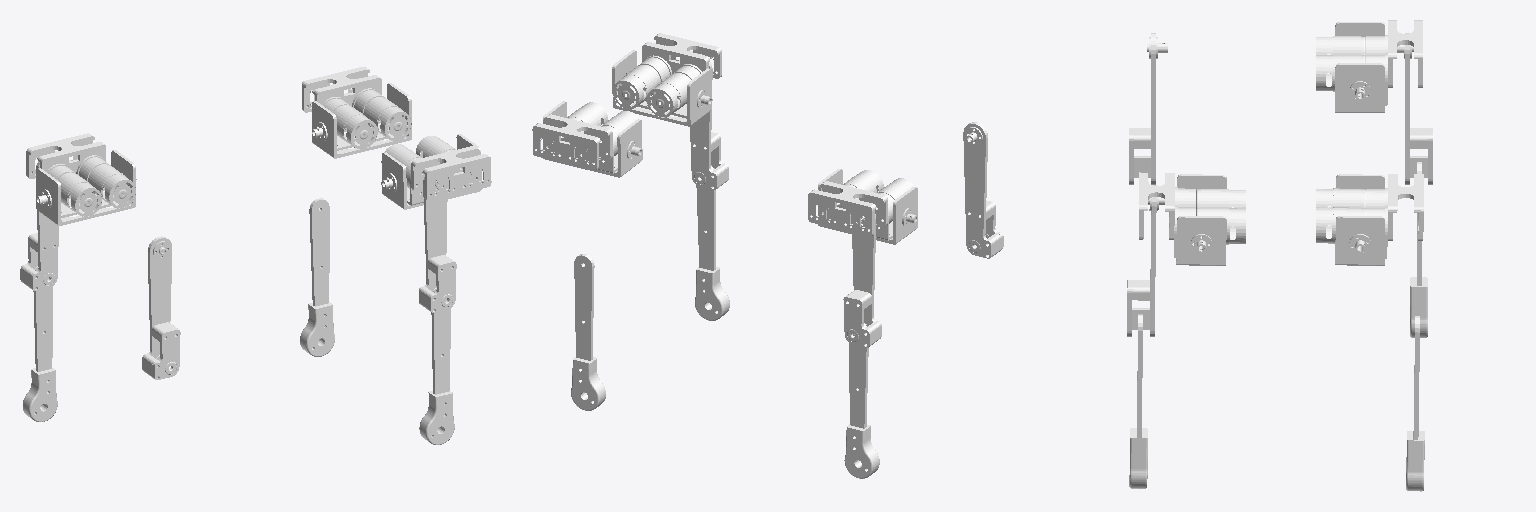
URDF robot description (spot):


<robot name="spot">
  <link name="chassis">
  <contact>
      <lateral_friction value="1"/>
  </contact>
    <inertial>
      <origin rpy="0 0 0" xyz="0 0.03 0.043794"/>
       <mass value="13.715"/>
       <inertia ixx="0" ixy="0" ixz="0" iyy="0" iyz="0" izz="0"/>
    </inertial>
    <visual>
      <origin rpy="0 0 0" xyz="0 0 0.043794"/>
      <geometry>

                <mesh filename="meshes/base_link.STL" scale="1 1 1"/>
      </geometry>
       <material name="white">
        <color rgba="1 1 1 1"/>
      </material>
    </visual>
    <collision>
      <origin rpy="0 0 0" xyz="0 0 0"/>
      <geometry>

                <mesh filename="meshes/base_link.STL" scale="1 1 1"/>
      </geometry>
    </collision>
  </link>

     <link name="FR_hip_motor">
  <contact>
      <lateral_friction value="1"/>
  </contact>
    <inertial>
       <origin rpy="0 0 0" xyz="0.02 0 0"/>
       <mass value="1.095"/>
       <inertia ixx="0" ixy="0" ixz="0" iyy="0" iyz="0" izz="0"/>
    </inertial>

      <visual>
      <origin rpy="0 0 0" xyz="0 0 0"/>
      <geometry>
                <mesh filename="meshes/rf_hip_link.STL" scale="1 1 1"/>
      </geometry>
       <material name="white"/>
    </visual>

    <collision>
      <origin rpy="0 0 0" xyz="0 0 0"/>
      <geometry>
                <mesh filename="meshes/rf_hip_link.STL" scale="1 1 1"/>
      </geometry>
    </collision>
    </link>

    <joint name="FR_hip_motor_2_chassis_joint" type="continuous">
        <axis xyz="-1 0 0"/>
        <parent link="chassis"/>
        <child link="FR_hip_motor"/>
        <origin rpy="0 0 0" xyz="0.1325 -0.0798899999999921 -0.0342976400491808"/>
        <limit effort="100" velocity="100"/>
        <joint_properties damping=".0" friction=".0"/>
    </joint>

     <link name="FR_upper_leg">
  <contact>
      <lateral_friction value="1"/>
  </contact>
    <inertial>
     <origin rpy="0 0 0" xyz="0 -0.04 -0.04"/>
       <mass value="1.527"/>
       <inertia ixx="0" ixy="0" ixz="0" iyy="0" iyz="0" izz="0"/>
    </inertial>
       <visual>
      <origin rpy="0 0 0" xyz="0 0 0"/>
      <geometry>
                <mesh filename="meshes/rf_upper_link.STL" scale="1 1 1"/>
      </geometry>
      <material name="white"/>
    </visual>

    <collision>
      <origin rpy="0 0 0" xyz="0 0 0"/>
      <geometry>
                <mesh filename="meshes/rf_upper_link.STL" scale="1 1 1"/>
      </geometry>
    </collision>
    </link>

    <joint name="FR_upper_leg_2_hip_motor_joint" type="continuous">
        <axis xyz="0 0.999902556615601 -0.0139598450415945"/>
        <parent link="FR_hip_motor"/>
        <child link="FR_upper_leg"/>
        <origin rpy="0 0 0" xyz="0.0269999999999999 -0.0628123830812422 0.0138782034736232"/>
        <limit effort="100" velocity="100"/>
        <joint_properties damping=".0" friction=".0"/>
    </joint>

     <link name="FR_lower_leg">
  <contact>
      <lateral_friction value="1"/>
  </contact>
    <inertial>
      <origin rpy="0 0 0" xyz="0 -0.16 -0.02"/>
       <mass value="0.241"/>
       <inertia ixx="0" ixy="0" ixz="0" iyy="0" iyz="0" izz="0"/>
    </inertial>
       <visual>
      <origin rpy="0 0 0" xyz="0 0.0 0"/>
      <geometry>
                <mesh filename="meshes/rf_lower_link.STL" scale="1 1 1"/>
      </geometry>
       <material name="white"/>
    </visual>

    <collision>
      <origin rpy="0 1.57079 0" xyz="0 0.0 0"/>
      <geometry>
                <mesh filename="meshes/rf_lower_link.STL" scale="1 1 1"/>
      </geometry>
    </collision>

    </link>

    <joint name="FR_lower_leg_2_upper_leg_joint" type="continuous">
        <axis xyz="0 0.999902556615601 -0.0139598450415923"/>
        <parent link="FR_upper_leg"/>
        <child link="FR_lower_leg"/>

        <origin rpy="0 0 0" xyz="0 -0.00994944374978339 -0.13957706811974"/>
        <limit effort="100" velocity="100"/>
        <joint_properties damping=".0" friction=".0"/>
    </joint>


     <link name="FL_hip_motor">
  <contact>
      <lateral_friction value="1"/>
  </contact>
    <inertial>
     <origin rpy="0 0 0" xyz="-.02 0 0"/>
       <mass value="1.095"/>
       <inertia ixx="0" ixy="0" ixz="0" iyy="0" iyz="0" izz="0"/>
    </inertial>
    <visual>
      <origin rpy="0 0 0" xyz="0 0 0"/>
      <geometry>
                <mesh filename="meshes/lf_hip_link.STL" scale="1 1 1"/>
      </geometry>
       <material name="white">
      </material>
    </visual>

    <collision>
      <origin rpy="0 0 0" xyz="0 0 0"/>
      <geometry>
                <mesh filename="meshes/lf_hip_link.STL" scale="1 1 1"/>
      </geometry>
    </collision>

      </link>

   <joint name="FL_hip_motor_2_chassis_joint" type="continuous">
        <axis xyz="1 0 0"/>
        <parent link="chassis"/>
        <child link="FL_hip_motor"/>
        <origin rpy="0 0 0" xyz="0.1325 0.0798900000000003 -0.034297640049036"/>
        <limit effort="100" velocity="100"/>
        <joint_properties damping=".0" friction=".0"/>
    </joint>

  <link name="FL_upper_leg">
  <contact>
      <lateral_friction value="1"/>
  </contact>
    <inertial>
       <origin rpy="0 0 0" xyz="0 -0.04 -0.04"/>
       <mass value="1.527"/>
       <inertia ixx="0" ixy="0" ixz="0" iyy="0" iyz="0" izz="0"/>
    </inertial>
     <visual>
      <origin rpy="0 0 0" xyz="0 0 0"/>
      <geometry>

                <mesh filename="meshes/lf_upper_link.STL" scale="1 1 1"/>
      </geometry>
       <material name="white">
      </material>
    </visual>

     <collision>
      <origin rpy="0 0 0" xyz="0 0 0"/>
      <geometry>
                <mesh filename="meshes/lf_upper_link.STL" scale="1 1 1"/>
      </geometry>
    </collision>

    </link>


  <joint name="FL_upper_leg_2_hip_motor_joint" type="continuous">
        <axis xyz="0 0.9999025566156 -0.013959845041636"/>
        <parent link="FL_hip_motor"/>
        <child link="FL_upper_leg"/>
        <origin rpy="0 0 0" xyz="0.0270000000000001 0.063175339052324 0.0121192629983798"/>
        <limit effort="100" velocity="100"/>
        <joint_properties damping=".0" friction=".0"/>
    </joint>


  <link name="FL_lower_leg">
  <contact>
      <lateral_friction value="1"/>
  </contact>
    <inertial>
      <origin rpy="0 0 0" xyz="0 -0.16 -0.02"/>
       <mass value="0.241"/>
       <inertia ixx="0" ixy="0" ixz="0" iyy="0" iyz="0" izz="0"/>
    </inertial>
   <visual>
      <origin rpy="0 0 0" xyz="0 0 0"/>
      <geometry>
                <mesh filename="meshes/lf_lower_link.STL" scale="1 1 1"/>
      </geometry>
       <material name="white">
      </material>
    </visual>

     <collision>
      <origin rpy="0 0 0" xyz="0 0 0"/>
      <geometry>
                <mesh filename="meshes/lf_lower_link.STL" scale="1 1 1"/>
      </geometry>
    </collision>

    </link>

  <joint name="FL_lower_leg_2_upper_leg_joint" type="continuous">
        <axis xyz="0 0.9999025566156 -0.0139598450416295"/>
        <parent link="FL_upper_leg"/>
        <child link="FL_lower_leg"/>
        <origin rpy="0 0 0" xyz="0 0.00604899715606039 -0.139800425640405"/>
        <limit effort="100" velocity="100"/>
        <joint_properties damping=".0" friction=".0"/>
    </joint>






     <link name="RR_hip_motor">
  <contact>
      <lateral_friction value="1"/>
  </contact>
    <inertial>
      <origin rpy="0 0 0" xyz="0.02 0 0"/>
       <mass value="1.095"/>
       <inertia ixx="0" ixy="0" ixz="0" iyy="0" iyz="0" izz="0"/>
    </inertial>

      <visual>
      <origin rpy="0 0 0" xyz="0 0 0"/>
      <geometry>
                <mesh filename="meshes/rh_hip_link.STL" scale="1 1 1"/>
      </geometry>
       <material name="white"/>
    </visual>

     <collision>
      <origin rpy="0 0 0" xyz="0 0 0"/>
      <geometry>
                <mesh filename="meshes/rh_hip_link.STL" scale="1 1 1"/>
      </geometry>
    </collision>

    </link>

    <joint name="RR_hip_motor_2_chassis_joint" type="continuous">
        <axis xyz="-1 0 0"/>
        <parent link="chassis"/>
        <child link="RR_hip_motor"/>
        <origin rpy="0 0 0" xyz="-0.132499999999999 -0.0798900000000018 -0.0342976400491642"/>
        <limit effort="100" velocity="100"/>
        <joint_properties damping=".0" friction=".0"/>
    </joint>

     <link name="RR_upper_leg">
  <contact>
      <lateral_friction value="1"/>
  </contact>
    <inertial>
     <origin rpy="0 0 0" xyz="0 -0.04 -0.04"/>
       <mass value="1.527"/>
       <inertia ixx="0" ixy="0" ixz="0" iyy="0" iyz="0" izz="0"/>
    </inertial>
       <visual>
      <origin rpy="0 0 0" xyz="0 0 0"/>
      <geometry>
                <mesh filename="meshes/rh_upper_link.STL" scale="1 1 1"/>
      </geometry>
       <material name="white"/>
    </visual>

    <collision>
      <origin rpy="0 0 0" xyz="0 0 0"/>
      <geometry>
                <mesh filename="meshes/rh_upper_link.STL" scale="1 1 1"/>
      </geometry>
    </collision>

    </link>

    <joint name="RR_upper_leg_2_hip_motor_joint" type="continuous">
        <axis xyz="0 1 0"/>
        <parent link="RR_hip_motor"/>
        <child link="RR_upper_leg"/>
        <origin rpy="0 0 0" xyz="-0.0719999999999999 -0.0630000000000001 0.013"/>
        <limit effort="100" velocity="100"/>
        <joint_properties damping=".0" friction=".0"/>
    </joint>

     <link name="RR_lower_leg">
  <contact>
      <lateral_friction value="1"/>
  </contact>
    <inertial>
      <origin rpy="0 0 0" xyz="0 -0.16 -0.02"/>
       <mass value="0.241"/>
       <inertia ixx="0" ixy="0" ixz="0" iyy="0" iyz="0" izz="0"/>
    </inertial>
       <visual>
      <origin rpy="0 0 0" xyz="0 0 0"/>
      <geometry>
                <mesh filename="meshes/rh_lower_link.STL" scale="1 1 1"/>
      </geometry>
       <material name="white"/>
    </visual>

     <collision>
      <origin rpy="0 1.57079 0" xyz="0 0 0"/>
      <geometry>
                <mesh filename="meshes/rh_lower_link.STL" scale="1 1 1"/>
      </geometry>
    </collision>

    </link>

    <joint name="RR_lower_leg_2_upper_leg_joint" type="continuous">
        <axis xyz="0 1 0"/>
        <parent link="RR_upper_leg"/>
        <child link="RR_lower_leg"/>
        <origin rpy="0 0 0" xyz="0 -0.00799999999999998 -0.139702359950835"/>
        <limit effort="100" velocity="100"/>
        <joint_properties damping=".0" friction=".0"/>
    </joint>


     <link name="RL_hip_motor">
  <contact>
      <lateral_friction value="1"/>
  </contact>
    <inertial>
      <origin rpy="0 0 0" xyz="-.02 0 0"/>
       <mass value="1.095"/>
       <inertia ixx="0" ixy="0" ixz="0" iyy="0" iyz="0" izz="0"/>
    </inertial>
    <visual>
      <origin rpy="0 0 0" xyz="0 0 0"/>
      <geometry>
                <mesh filename="meshes/lh_hip_link.STL" scale="1 1 1"/>
      </geometry>
       <material name="white"/>
    </visual>

    <collision>
      <origin rpy="0 0 0" xyz="0 0 0"/>
      <geometry>
                <mesh filename="meshes/lh_hip_link.STL" scale="1 1 1"/>
      </geometry>
    </collision>

      </link>

   <joint name="RL_hip_motor_2_chassis_joint" type="continuous">
        <axis xyz="1 0 0"/>
        <parent link="chassis"/>
        <child link="RL_hip_motor"/>

        <origin rpy="0 0 0" xyz="-0.113675317925363 0.0876111412863929 -0.0336879615739561"/>
        <limit effort="100" velocity="100"/>
        <joint_properties damping=".0" friction=".0"/>
    </joint>

  <link name="RL_upper_leg">
  <contact>
      <lateral_friction value="1"/>
  </contact>
    <inertial>
      <origin rpy="0 0 0" xyz="0 -0.04 -0.04"/>
       <mass value="1.527"/>
       <inertia ixx="0" ixy="0" ixz="0" iyy="0" iyz="0" izz="0"/>
    </inertial>
     <visual>
      <origin rpy="0 0 0" xyz="0 0 0"/>
      <geometry>
                <mesh filename="meshes/lh_upper_link.STL" scale="1 1 1"/>
      </geometry>
       <material name="white"/>
    </visual>

    <collision>
      <origin rpy="0 0 0" xyz="0 0 0"/>
      <geometry>
                <mesh filename="meshes/lh_upper_link.STL" scale="1 1 1"/>
      </geometry>
    </collision>

    </link>


  <joint name="RL_upper_leg_2_hip_motor_joint" type="continuous">
        <axis xyz="0 1 0"/>
        <parent link="RL_hip_motor"/>
        <child link="RL_upper_leg"/>
        <origin rpy="0 0 0" xyz="-0.072 0.063 0.0130000000000001"/>
        <limit effort="100" velocity="100"/>
        <joint_properties damping=".0" friction=".0"/>
    </joint>


  <link name="RL_lower_leg">
  <contact>
      <lateral_friction value="1"/>
  </contact>
    <inertial>
      <origin rpy="0 0 0" xyz="0 -0.16 -0.02"/>
       <mass value="0.241"/>
       <inertia ixx="0" ixy="0" ixz="0" iyy="0" iyz="0" izz="0"/>
    </inertial>
   <visual>
      <origin rpy="0 0 0" xyz="0 0 0"/>
      <geometry>
                <mesh filename="meshes/lh_lower_link.STL" scale="1 1 1"/>
      </geometry>
       <material name="white"/>
    </visual>

    <collision>
      <origin rpy="0 0 0" xyz="0 0 0"/>
      <geometry>
                <mesh filename="meshes/lh_lower_link.STL" scale="1 1 1"/>
      </geometry>
    </collision>

    </link>

  <joint name="RL_lower_leg_2_upper_leg_joint" type="continuous">
        <axis xyz="0 1 0"/>
        <parent link="RL_upper_leg"/>
        <child link="RL_lower_leg"/>
        <origin rpy="0 0 0" xyz="0 0.008 -0.1397"/>
        <limit effort="100" velocity="100"/>
        <joint_properties damping=".0" friction=".0"/>
    </joint>



</robot>

--- Render facts (derived) ---
The picture shows the robot from 3 angles, left to right: view 1: azimuth 30°, elevation 25°; view 2: azimuth 150°, elevation 25°; view 3: azimuth 270°, elevation 25°; orthographic projection.
Robot: spot — 13 links, 12 joints (12 continuous); root link chassis; default pose: all joints at 0.
Visible links, largest first — view 1: RL_hip_motor, FL_hip_motor, FR_hip_motor, RR_upper_leg, FL_lower_leg, FR_upper_leg, FR_lower_leg, RL_lower_leg, RL_upper_leg; view 2: FR_hip_motor, FL_hip_motor, RL_hip_motor, RR_upper_leg, FL_lower_leg, RL_upper_leg, RL_lower_leg, FR_lower_leg, FR_upper_leg; view 3: FL_hip_motor, FR_hip_motor, RL_hip_motor, RR_upper_leg, FR_upper_leg, RL_upper_leg, FR_lower_leg, FL_lower_leg, RL_lower_leg.
Link boxes in pixels (bbox=[...]): RL_hip_motor: bbox=[26, 133, 136, 225]; FL_hip_motor: bbox=[302, 67, 411, 158]; FR_hip_motor: bbox=[381, 134, 491, 209]; RR_upper_leg: bbox=[142, 236, 180, 379]; FL_lower_leg: bbox=[300, 198, 334, 356]; FR_upper_leg: bbox=[419, 177, 456, 312]; FR_lower_leg: bbox=[419, 288, 454, 444]; RL_lower_leg: bbox=[23, 267, 57, 421]; RL_upper_leg: bbox=[20, 161, 58, 290]; FR_hip_motor: bbox=[612, 33, 721, 126]; FL_hip_motor: bbox=[532, 101, 642, 177]; RL_hip_motor: bbox=[808, 169, 917, 244]; RR_upper_leg: bbox=[963, 122, 1003, 258]; FL_lower_leg: bbox=[571, 254, 605, 410]; RL_upper_leg: bbox=[843, 214, 881, 347]; RL_lower_leg: bbox=[844, 323, 879, 478]; FR_lower_leg: bbox=[695, 166, 729, 320]; FR_upper_leg: bbox=[690, 62, 728, 189]; FL_hip_motor: bbox=[1316, 174, 1423, 265]; FR_hip_motor: bbox=[1139, 172, 1245, 265]; RL_hip_motor: bbox=[1316, 20, 1422, 112]; RR_upper_leg: bbox=[1129, 33, 1167, 184]; FR_upper_leg: bbox=[1127, 185, 1164, 336]; RL_upper_leg: bbox=[1397, 33, 1432, 184]; FR_lower_leg: bbox=[1129, 314, 1147, 488]; FL_lower_leg: bbox=[1406, 316, 1424, 491]; RL_lower_leg: bbox=[1410, 162, 1427, 337].
Bounding box of the posed robot: 0.491 × 0.3087 × 0.3465 m (x, y, z).
9 mesh visuals loaded from 13 distinct referenced files (9 binary STL); not drawn: 4 (reference not matched to a file when rendering).